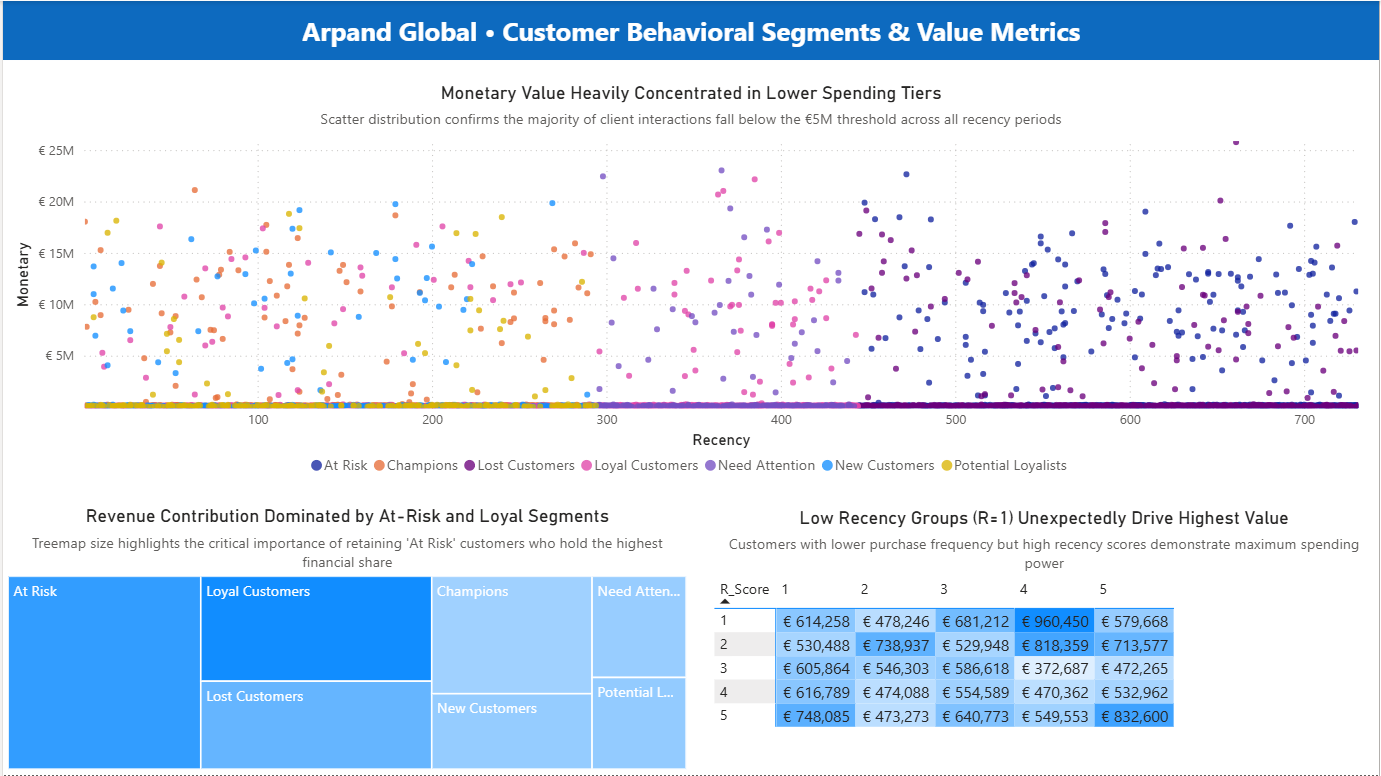

What the dashboard file says about the page in this screenshot:
{"tool":"powerbi","page":{"name":"RFM Deep Dive","canvas":[1280,720],"ordinal":1},"visuals":[{"type":"scatterChart","title":"Monetary Value Heavily Concentrated in Lower Spending Tiers","fields":{"X":["rfm_segmented_final.Recency"],"Y":["rfm_segmented_final.Monetary"],"Series":["rfm_segmented_final.Segment"]},"box":[0,66.3,1280.2,388.4],"z":0},{"type":"treemap","title":"Revenue Contribution Dominated by At-Risk and Loyal Segments","fields":{"Group":["rfm_segmented_final.Segment"],"Values":["rfm_segmented_final.Total Revenue"]},"box":[0,464,640.7,255.8],"z":1000},{"type":"pivotTable","title":"Low Recency Groups (R=1) Unexpectedly Drive Highest Value","fields":{"Rows":["rfm_segmented_final.R_Score"],"Columns":["rfm_segmented_final.F_Score"],"Values":["rfm_segmented_final.Avg Spend per Customer"]},"box":[657,464,623.3,255.8],"z":2000},{"type":"shape","title":"Arpand Global • E-Commerce  RFM Analysis","box":[0,0,1280.3,54.9],"z":3000}]}

Visuals, with their boxes in screenshot pixels (x1, y1, x2, y2), scaled from the page's 1280x720 canvas onto the 1381x776 screenshot:
"Monetary Value Heavily Concentrated in Lower Spending Tiers" scatterChart: bbox=(0, 71, 1380, 490)
"Revenue Contribution Dominated by At-Risk and Loyal Segments" treemap: bbox=(0, 500, 691, 775)
"Low Recency Groups (R=1) Unexpectedly Drive Highest Value" pivotTable: bbox=(709, 500, 1380, 775)
"Arpand Global • E-Commerce  RFM Analysis" shape: bbox=(0, 0, 1380, 59)
